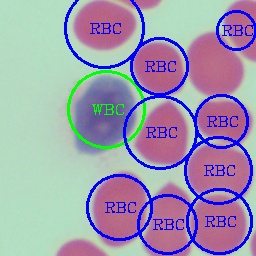RBC: (88, 168, 150, 248), (183, 28, 248, 100), (130, 99, 190, 170), (184, 138, 255, 198), (187, 192, 251, 255), (68, 0, 140, 55), (129, 38, 188, 98), (191, 94, 255, 146), (145, 180, 190, 232), (218, 0, 254, 64)
WBC: (60, 72, 140, 159)
